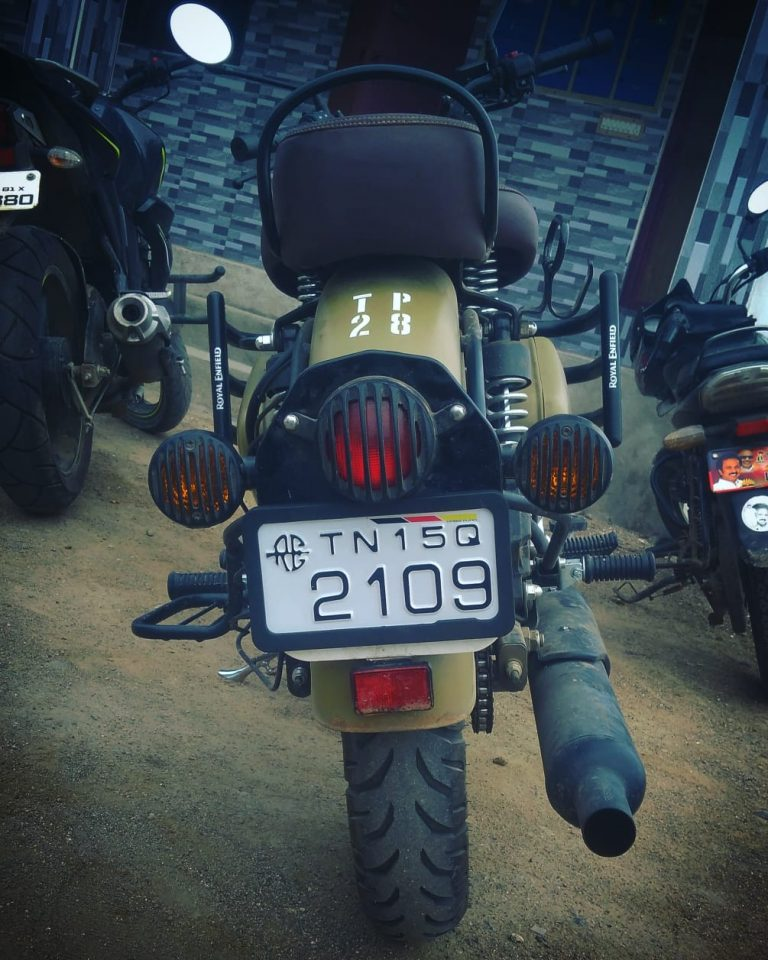number_plate: (235, 483, 528, 655)
